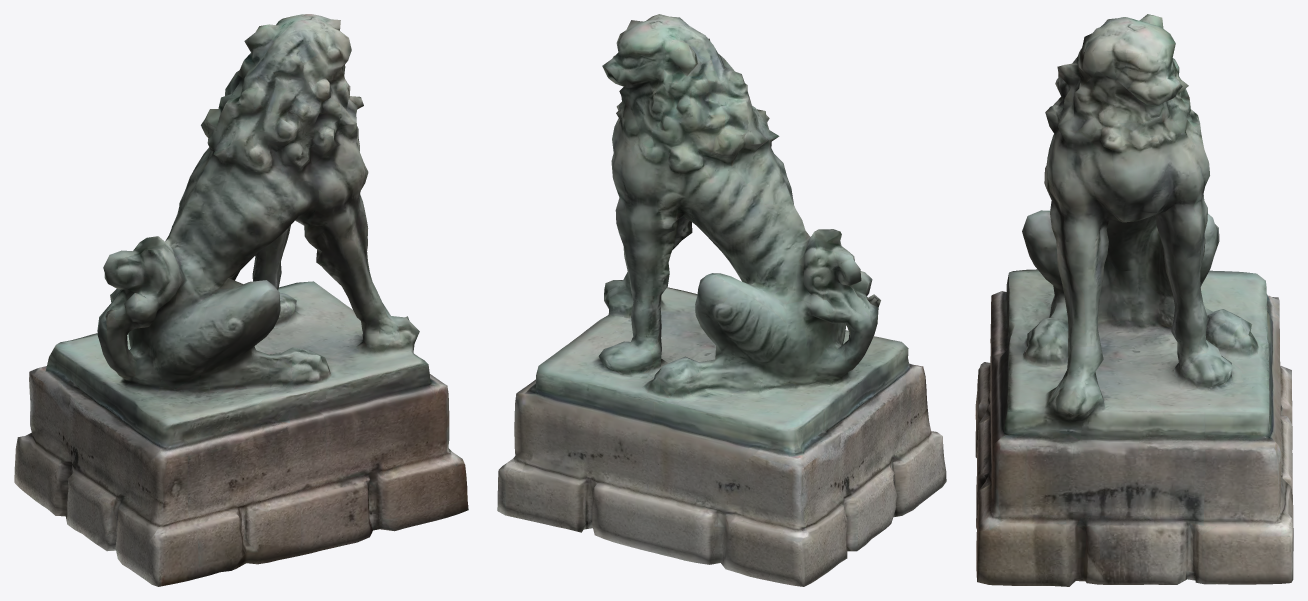
The model's file is perroCat.glb.
3 renders of one model, left to right at view 1: azimuth 30°, elevation 25°; view 2: azimuth 150°, elevation 25°; view 3: azimuth 270°, elevation 25°, orthographic. The views are drawn at different scales.
Visible parts, largest first — view 1: Object_2; view 2: Object_2; view 3: Object_2.
Part boxes in pixels (box(x1,y1,x2,y2)): Object_2: box(14, 14, 468, 586); Object_2: box(497, 14, 946, 586); Object_2: box(975, 14, 1293, 586).
Bounding box in the file's own units: 1.82 × 2.59 × 1.45.
1 material, 1 textured.
